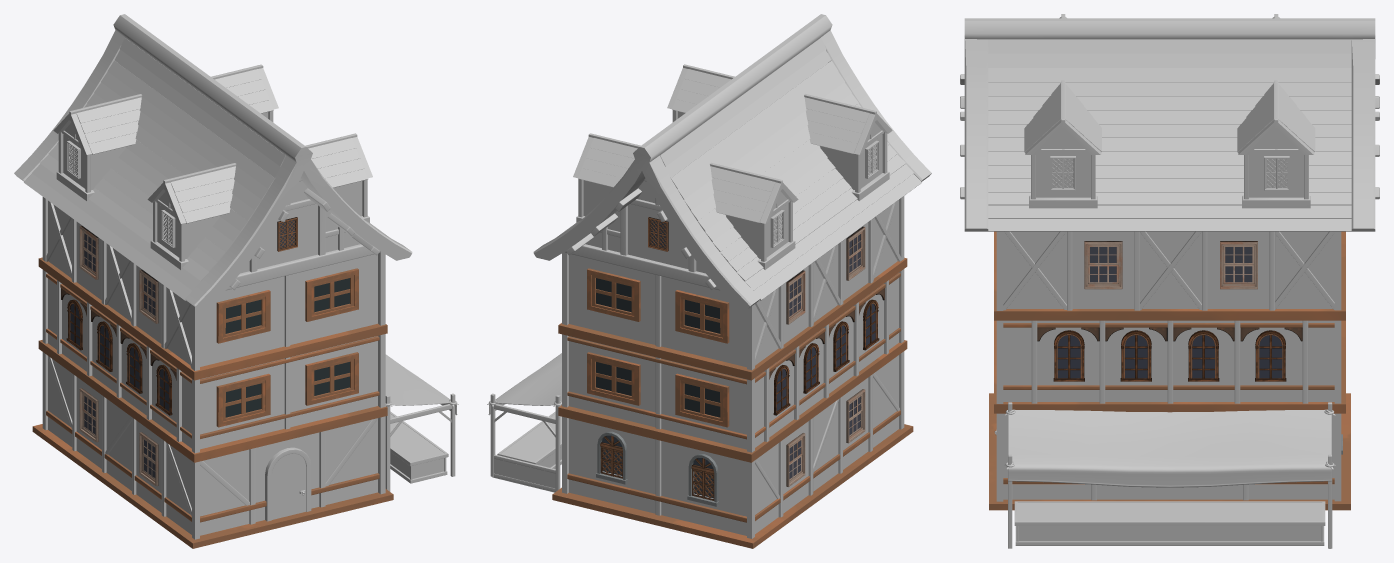
Rendered from House04_Low.fbx.
3 renders of one model, left to right at view 1: azimuth 30°, elevation 25°; view 2: azimuth 150°, elevation 25°; view 3: azimuth 270°, elevation 25°, orthographic. The views are drawn at different scales.
Parts seen in each view (by area): view 1: house04_Low; view 2: house04_Low; view 3: house04_Low.
Boxes of the visible parts, x1,y1,x2,y2 form: house04_Low: (14, 14, 458, 548); house04_Low: (487, 14, 931, 548); house04_Low: (960, 14, 1379, 548).
Size of the model in its own units: 1217 by 1585 by 1383.
